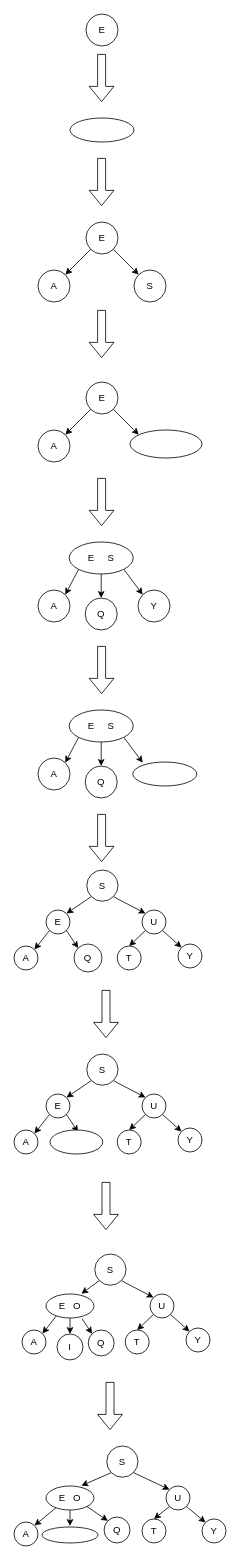
The diagram is 240 pixels wide and 1560 high, and some of its shapes have lost their labels. Each missing label, with the centre of its shape:
"A E" belongs at [101,129].
"I N" belongs at [69,1534].
"I Q" belongs at [76,1141].
"S Y" belongs at [165,443].
"U Y" belongs at [164,773].
